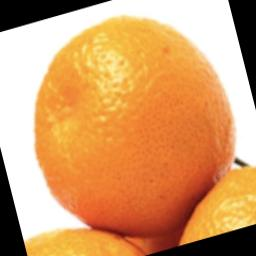Orange Fresh: (16, 0, 256, 253)
